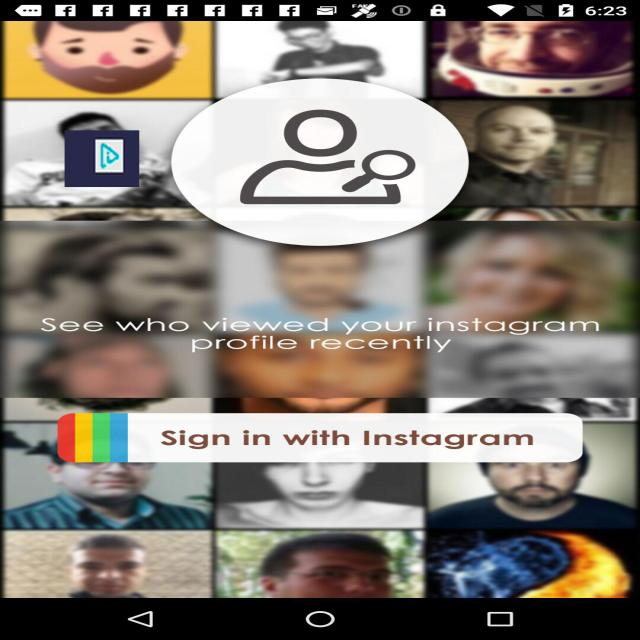sneaking: (65, 130, 139, 187)
